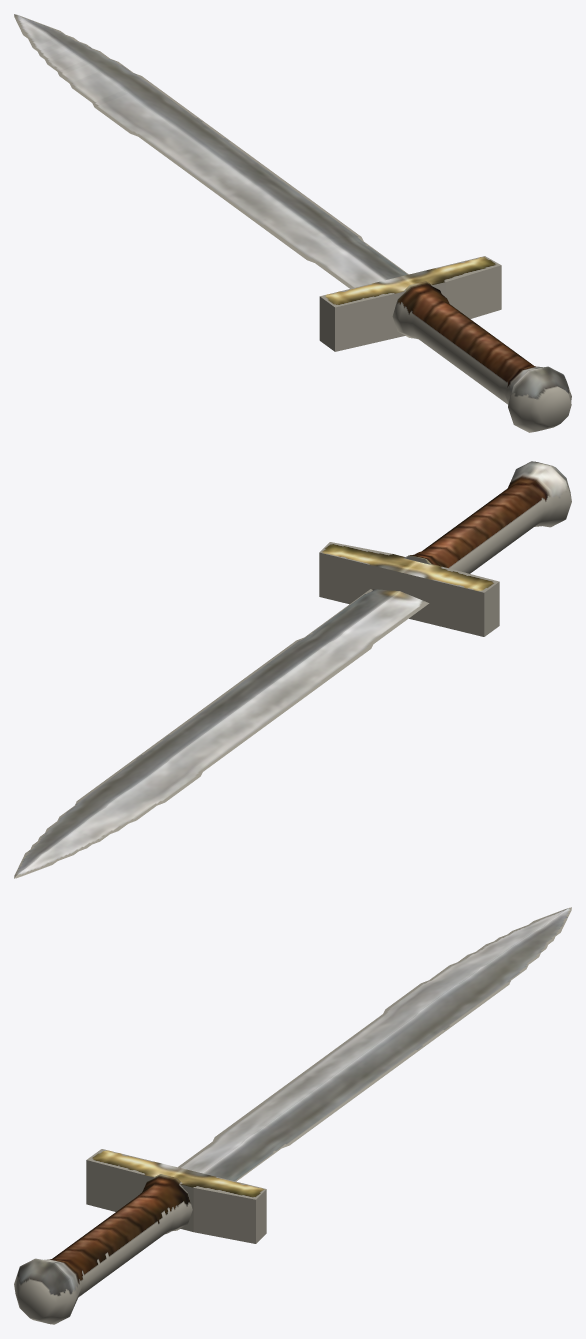
File: item_mm9_10002.glb
The picture shows the model from 3 angles, top to bottom: view 1: azimuth 30°, elevation 25°; view 2: azimuth 150°, elevation 25°; view 3: azimuth 330°, elevation 25°; orthographic projection.
Visible parts, largest first — view 1: d10002; view 2: d10002; view 3: d10002.
Part boxes in pixels (x1,y1,x2,y2): d10002: [14, 14, 571, 432]; d10002: [14, 461, 571, 878]; d10002: [14, 907, 571, 1324].
Bounding box in the file's own units: 25.57 × 8.96 × 142.
Materials: 1 (1 with a texture image).
